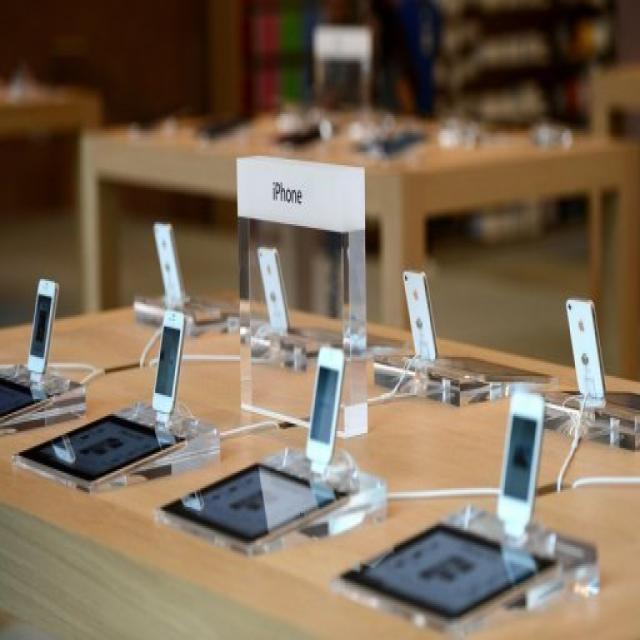cellphone: (505, 378, 549, 538), (560, 286, 617, 406), (255, 240, 298, 336), (310, 342, 342, 470), (399, 263, 441, 358), (149, 310, 183, 422), (156, 217, 190, 306), (29, 278, 58, 377)
